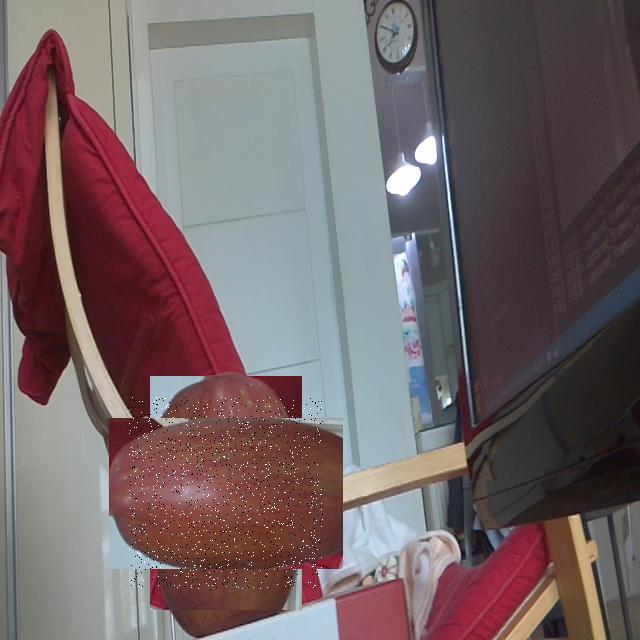apple: (129, 397, 323, 589)
